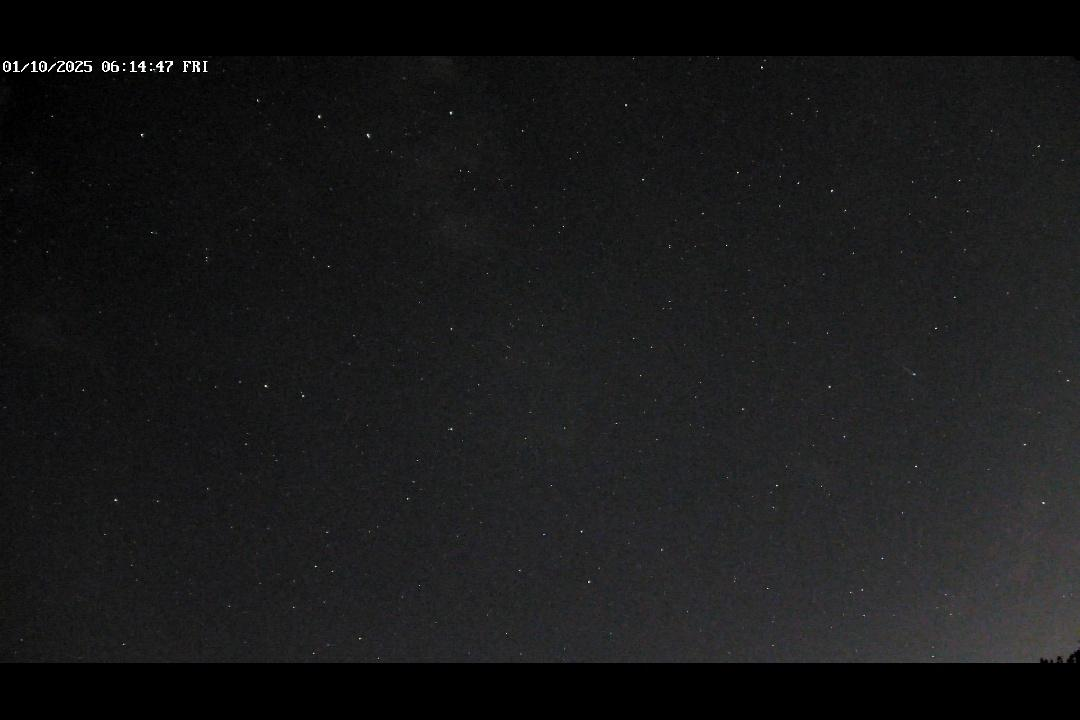Plane: (884, 357, 925, 381)
